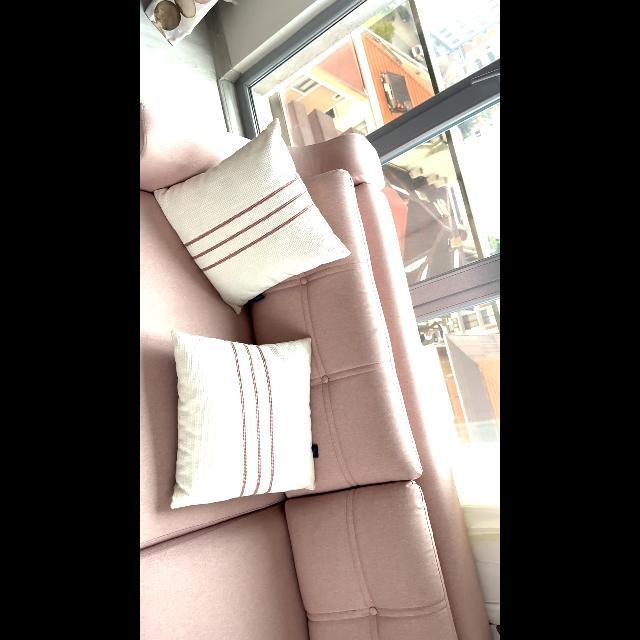throw pillow: (148, 102, 356, 324), (164, 328, 324, 516)
